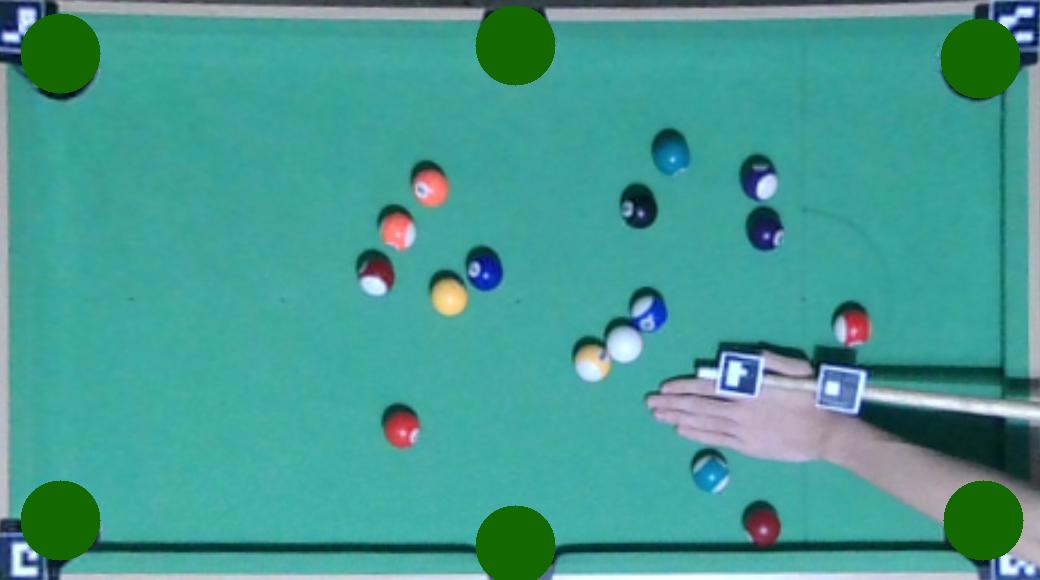Ball: (690, 451, 733, 494), (741, 157, 781, 201), (355, 255, 396, 297), (652, 133, 692, 176), (746, 207, 785, 251), (627, 292, 669, 332), (833, 309, 873, 349), (430, 276, 469, 316), (573, 343, 612, 383), (410, 168, 451, 206), (379, 212, 419, 250), (465, 252, 504, 290), (383, 411, 422, 449), (620, 190, 658, 228), (606, 328, 644, 365), (744, 511, 781, 545)
